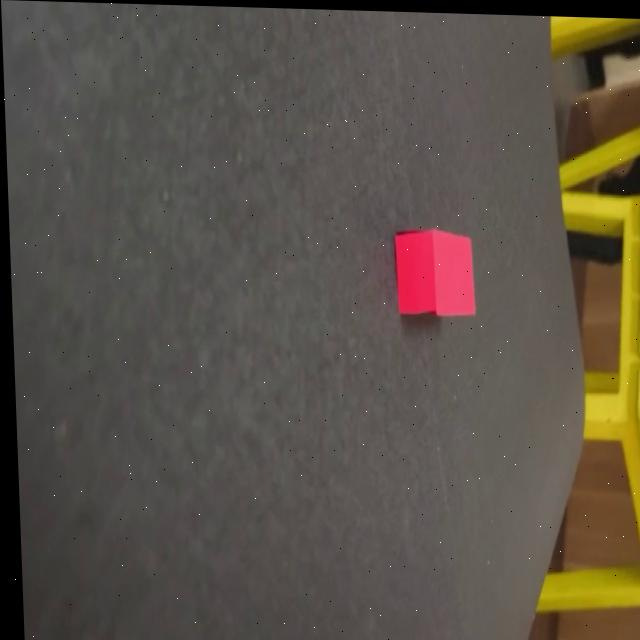red block: (393, 228, 476, 321)
